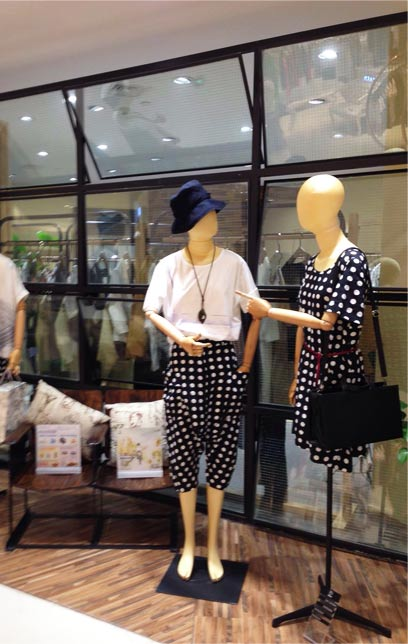person-like: (229, 168, 374, 609), (137, 177, 265, 586)
